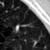node: (14, 23, 21, 34)
